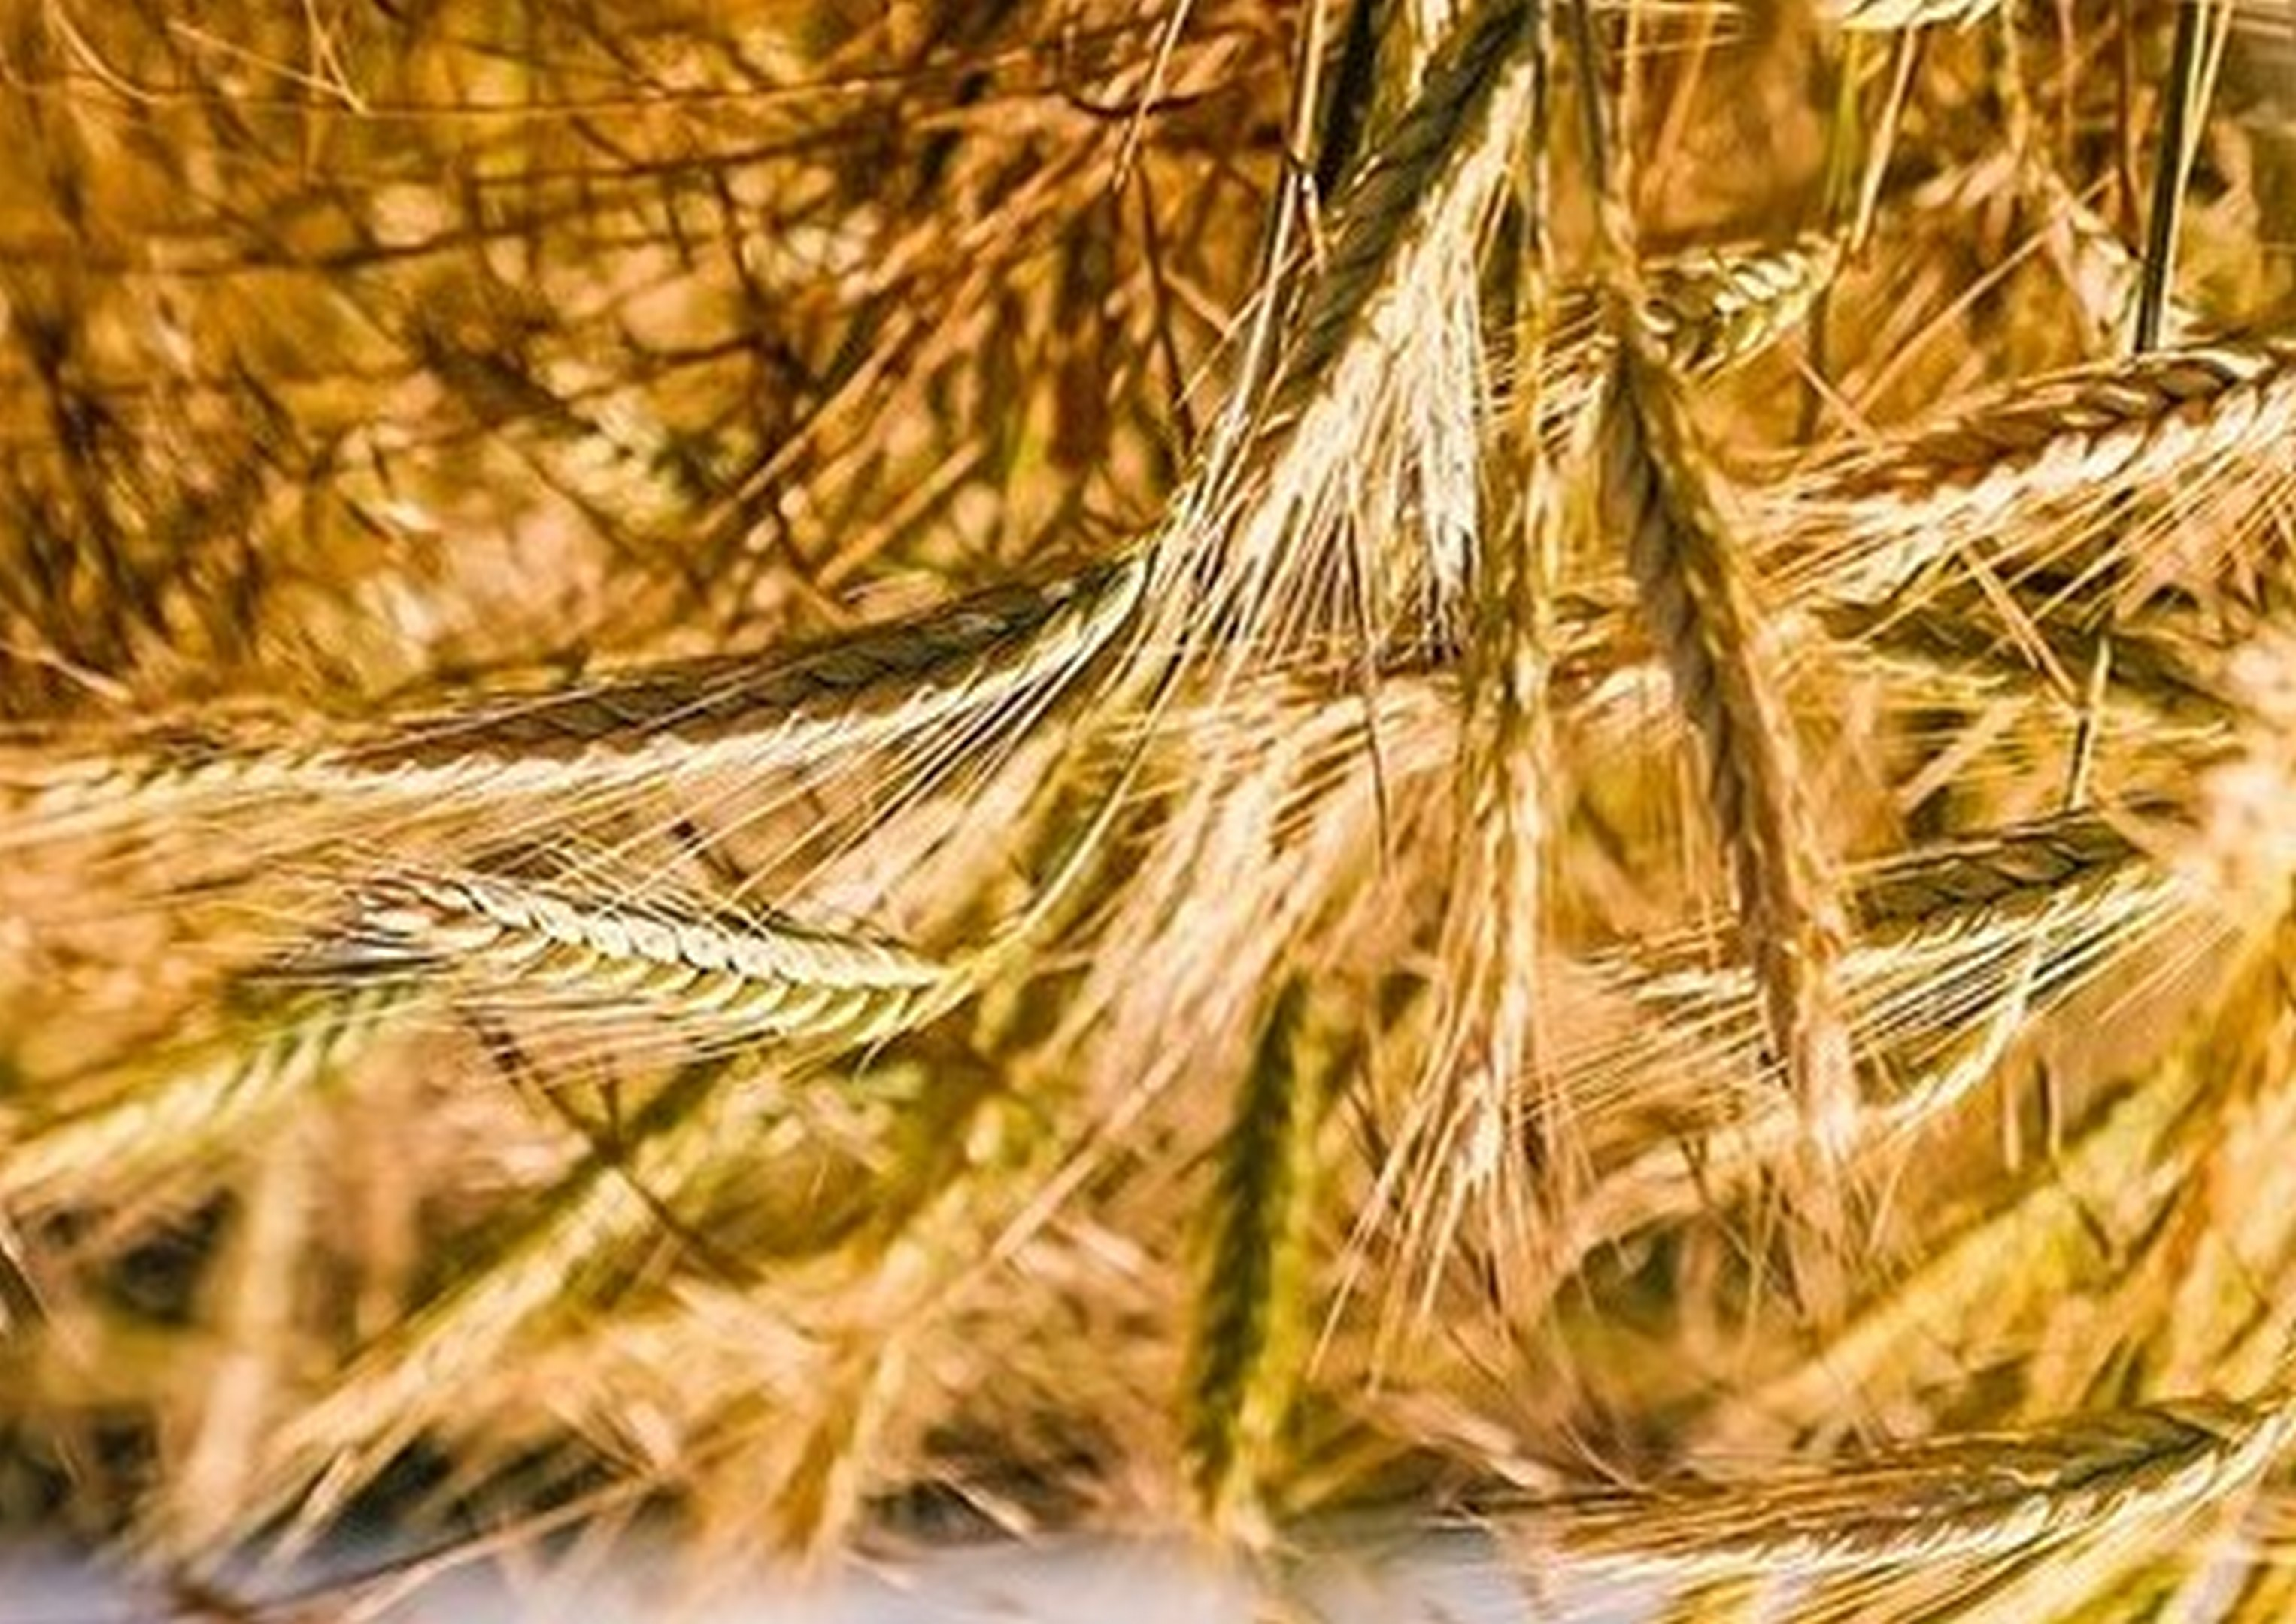Healthy Wheat: (331, 823, 969, 1072)
